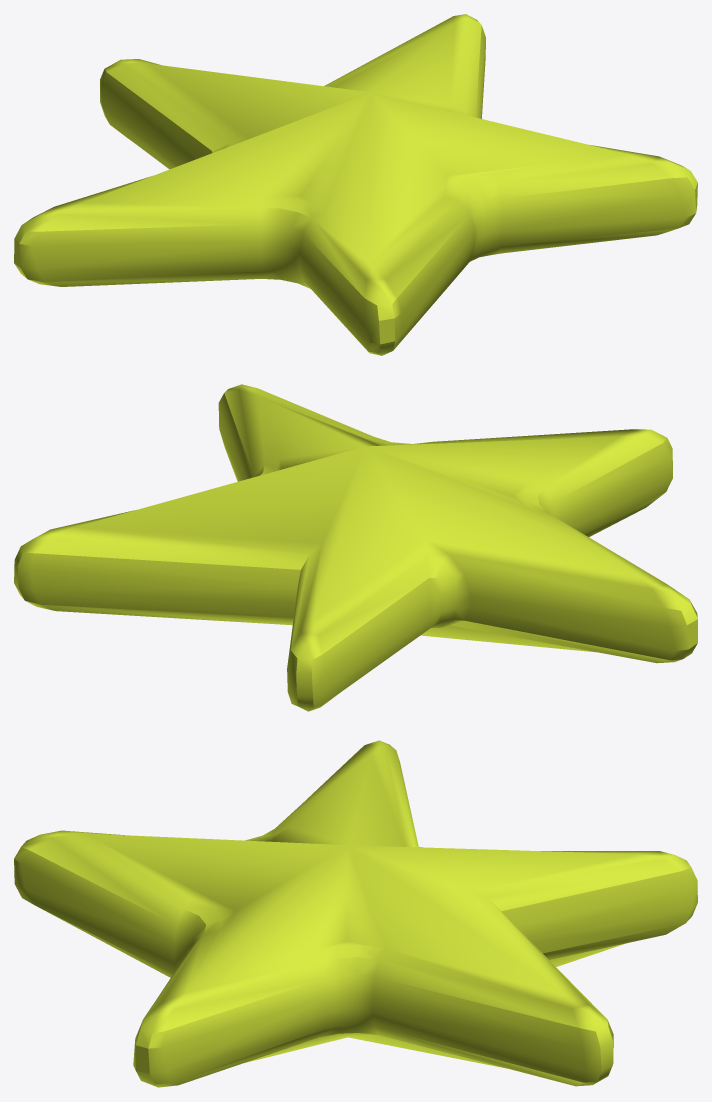
File: zvezda6.fbx
3 views of the same model, one above another, from view 1: azimuth 30°, elevation 25°; view 2: azimuth 150°, elevation 25°; view 3: azimuth 270°, elevation 25° (orthographic). The views are drawn at different scales.
Parts seen in each view (by area): view 1: zvezda6; view 2: zvezda6; view 3: zvezda6.
Boxes of the visible parts, x1,y1,x2,y2 form: zvezda6: (14,14,697,355); zvezda6: (14,384,697,711); zvezda6: (14,740,697,1087).
Bounding box in the file's own units: 36.15 × 10.92 × 35.23.
